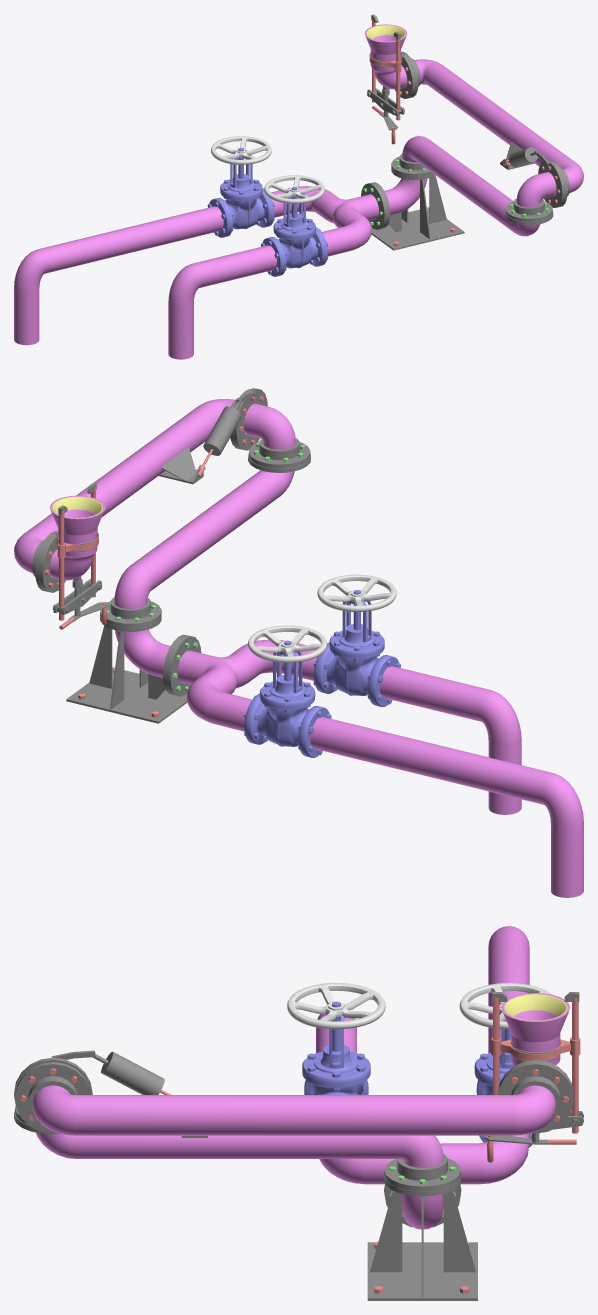
The model's file is SM_Sliv_ALL2.gltf.
3 views of the same model, one above another, from view 1: azimuth 30°, elevation 25°; view 2: azimuth 150°, elevation 25°; view 3: azimuth 270°, elevation 25° (orthographic). The views are drawn at different scales.
Parts seen in each view (by area): view 1: SM_Sliv_ALL2; view 2: SM_Sliv_ALL2; view 3: SM_Sliv_ALL2.
Part boxes in pixels (left/top/right/bottom): SM_Sliv_ALL2: left=14, top=14, right=583, bottom=359; SM_Sliv_ALL2: left=14, top=388, right=583, bottom=897; SM_Sliv_ALL2: left=14, top=926, right=583, bottom=1300.
Bounding box in the file's own units: 2.57 × 1.25 × 1.82.
